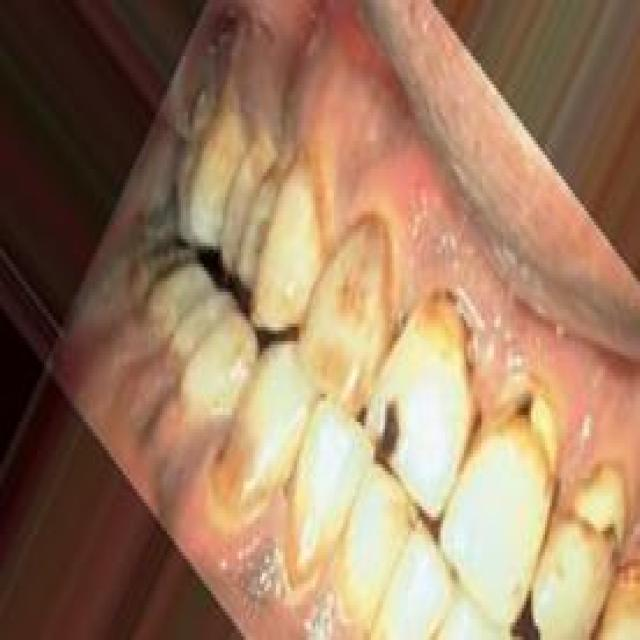caries: (563, 446, 640, 552), (495, 368, 567, 476), (364, 382, 421, 482), (440, 282, 487, 399)
